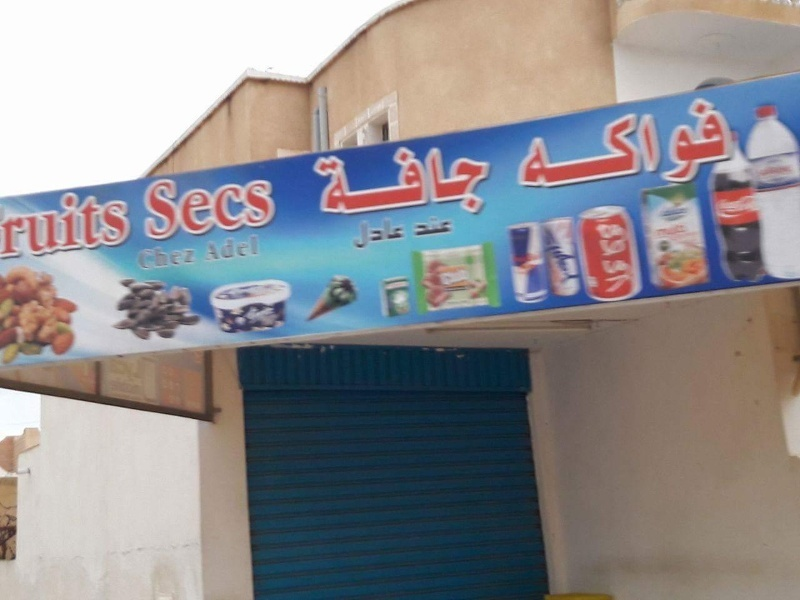text: (513, 92, 528, 207), (529, 92, 544, 207), (545, 92, 560, 207), (561, 92, 576, 207), (577, 92, 592, 207), (593, 92, 608, 207), (609, 92, 624, 207), (625, 92, 640, 207), (641, 92, 656, 207), (657, 92, 672, 207), (673, 92, 688, 207), (689, 92, 704, 207), (705, 92, 720, 207), (721, 92, 736, 207), (321, 138, 336, 232), (337, 138, 352, 232), (353, 138, 368, 232), (369, 138, 384, 232), (385, 138, 400, 232), (401, 138, 416, 232), (417, 138, 432, 232), (433, 138, 448, 232), (449, 138, 464, 232), (465, 138, 480, 232), (481, 138, 496, 232), (609, 218, 624, 296), (17, 184, 32, 260), (33, 184, 48, 260), (49, 184, 64, 260), (65, 184, 80, 260), (81, 184, 96, 260), (97, 184, 112, 260), (113, 184, 128, 260), (145, 167, 160, 242), (161, 167, 176, 242), (177, 167, 192, 242), (193, 167, 208, 242), (209, 167, 224, 242), (225, 167, 240, 242), (241, 167, 256, 242), (257, 167, 272, 242), (594, 218, 608, 296), (309, 138, 320, 232), (625, 218, 638, 296), (6, 184, 16, 260), (353, 219, 368, 252), (369, 219, 384, 252), (385, 219, 400, 252), (209, 232, 224, 263), (225, 232, 240, 263), (241, 232, 256, 263), (737, 92, 741, 207), (273, 167, 279, 242), (145, 244, 160, 271), (161, 244, 176, 271), (177, 244, 192, 271), (721, 194, 736, 219), (737, 194, 752, 219), (417, 214, 432, 238), (433, 214, 448, 238), (673, 199, 688, 222), (129, 184, 133, 260), (660, 199, 672, 222), (673, 221, 689, 238), (657, 221, 672, 238), (141, 167, 144, 242), (769, 164, 784, 179), (753, 194, 761, 219), (202, 232, 208, 263), (713, 194, 720, 219), (401, 219, 406, 252), (257, 232, 262, 263), (758, 164, 768, 179), (139, 244, 144, 271), (785, 164, 794, 179), (689, 199, 694, 222), (193, 244, 197, 271), (412, 214, 416, 238), (449, 214, 453, 238), (655, 221, 656, 238)
